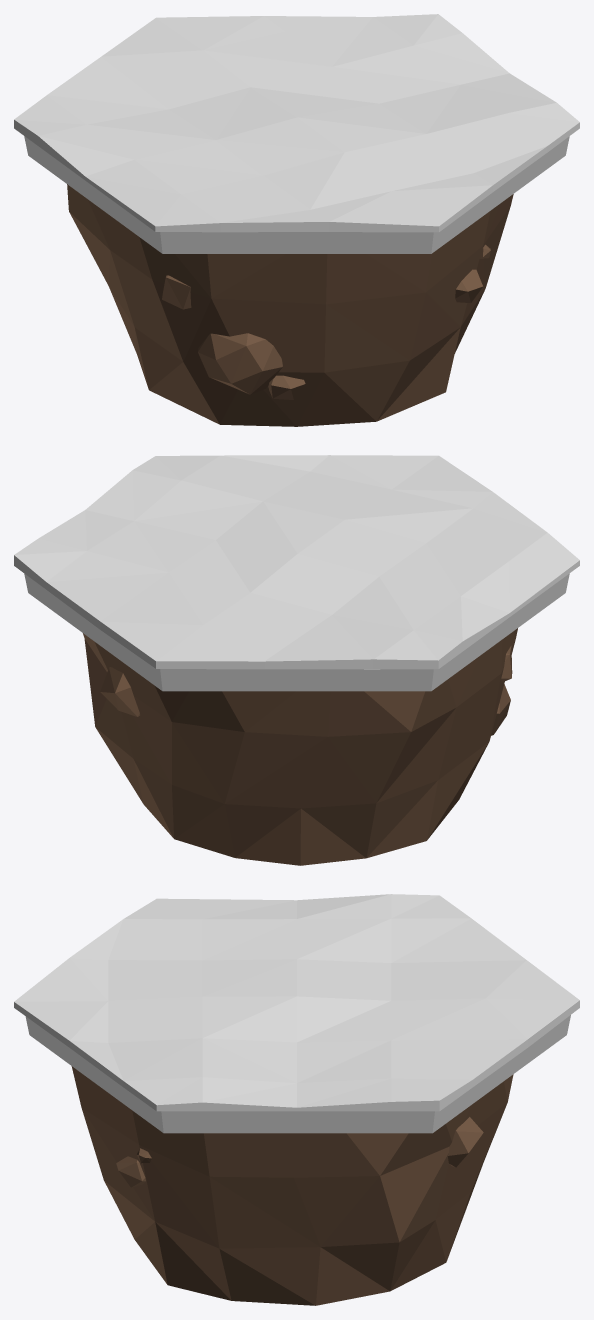
Rendered from hexagonTile-land01.fbx.
3 renders of one model, top to bottom at view 1: azimuth 30°, elevation 25°; view 2: azimuth 150°, elevation 25°; view 3: azimuth 270°, elevation 25°, orthographic.
Visible parts, largest first — view 1: hexagonTile-land01; view 2: hexagonTile-land01; view 3: hexagonTile-land01.
Boxes of the visible parts, x1=… form: hexagonTile-land01: x1=14, y1=14, x2=579, y2=426; hexagonTile-land01: x1=14, y1=455, x2=579, y2=865; hexagonTile-land01: x1=14, y1=894, x2=579, y2=1305.
Bounding box in the file's own units: 20 × 23.09 × 12.7.
